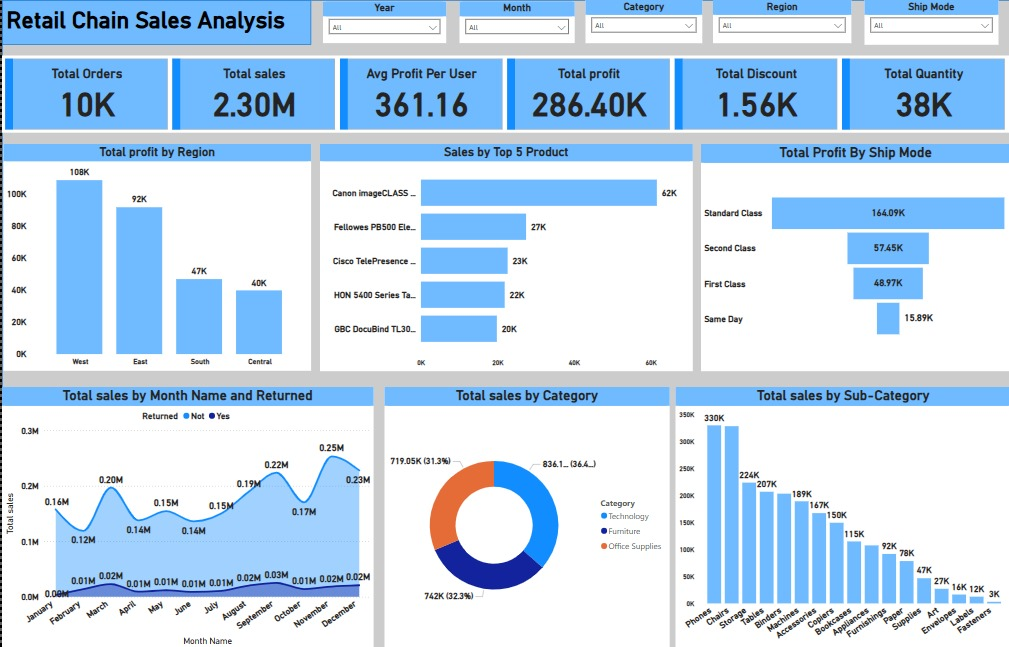

Layout of this report page (visuals, bound fields, positions):
{"tool":"powerbi","page":{"name":"Dashboard","canvas":[1680,1080],"ordinal":0},"visuals":[{"type":"shape","box":[0,0,1978.9,1600],"z":0},{"type":"shape","box":[0,0,515.4,74.4],"z":1000},{"type":"textbox","box":[2.6,5.1,512.8,61.5],"z":2000},{"type":"slicer","title":"Year","fields":{"Values":["Retails Order Full Dataset.Year"]},"box":[535.9,2.6,205.1,69.2],"z":3000},{"type":"slicer","title":"Month","fields":{"Values":["Retails Order Full Dataset.Month Name"]},"box":[761.5,2.6,192.3,69.2],"z":4000},{"type":"slicer","title":"Category","fields":{"Values":["Retails Order Full Dataset.Category"]},"box":[971.8,0,194.9,71.8],"z":5000},{"type":"slicer","title":"Ship Mode","fields":{"Values":["Retails Order Full Dataset.Ship Mode"]},"box":[1438.5,0,223.1,74.4],"z":6000},{"type":"slicer","title":"Region","fields":{"Values":["Retails Order Full Dataset.Region"]},"box":[1184.6,0,230.8,71.8],"z":7000},{"type":"cardVisual","fields":{"Data":["Retails Order Full Dataset.Total Orders","Retails Order Full Dataset.Total sales","Retails Order Full Dataset.Avg Profit Per User","Retails Order Full Dataset.Total profit","Retails Order Full Dataset.Total Discount","Retails Order Full Dataset.Total Quantity"]},"box":[0,92.9,1678.6,128.6],"z":8000},{"type":"clusteredColumnChart","fields":{"Y":["Retails Order Full Dataset.Total profit"],"Category":["Retails Order Full Dataset.Region"]},"box":[3.1,240.6,512.5,378.1],"z":9000},{"type":"donutChart","fields":{"Category":["Retails Order Full Dataset.Category"],"Y":["Retails Order Full Dataset.Total sales"]},"box":[637.5,643.8,475,434.4],"z":10000},{"type":"funnel","title":"Total Profit By Ship Mode","fields":{"Category":["Retails Order Full Dataset.Ship Mode"],"Y":["Retails Order Full Dataset.Total profit"]},"box":[1165.8,239.5,515.8,378.9],"z":11000},{"type":"areaChart","fields":{"Y":["Retails Order Full Dataset.Total sales"],"Category":["Retails Order Full Dataset.Month Name"],"Series":["Retails Order Full Dataset.Returned"]},"box":[0,645.2,619,435.7],"z":12000},{"type":"columnChart","fields":{"Category":["Retails Order Full Dataset.Sub-Category"],"Y":["Retails Order Full Dataset.Total sales"]},"box":[1121.9,643.8,559.4,437.5],"z":13000},{"type":"barChart","title":"Sales by Top 5 Product ","fields":{"Category":["Retails Order Full Dataset.Product Name"],"Y":["Retails Order Full Dataset.Total sales"]},"box":[528.9,239.5,621.1,378.9],"z":14000}]}

Visuals, with their boxes in screenshot pixels (x1, y1, x2, y2), scaled from the page's 1680x1080 canvas onto the 1009x647 screenshot:
shape: region(0, 0, 1008, 646)
shape: region(0, 0, 310, 45)
textbox: region(2, 3, 310, 40)
"Year" slicer: region(322, 2, 445, 43)
"Month" slicer: region(457, 2, 573, 43)
"Category" slicer: region(584, 0, 701, 43)
"Ship Mode" slicer: region(864, 0, 998, 45)
"Region" slicer: region(711, 0, 850, 43)
cardVisual - Retails Order Full Dataset.Total Orders x Retails Order Full Dataset.Total sales: region(0, 56, 1008, 133)
clusteredColumnChart - Retails Order Full Dataset.Total profit x Retails Order Full Dataset.Region: region(2, 144, 310, 371)
donutChart - Retails Order Full Dataset.Category x Retails Order Full Dataset.Total sales: region(383, 386, 668, 646)
"Total Profit By Ship Mode" funnel: region(700, 143, 1008, 370)
areaChart - Retails Order Full Dataset.Total sales x Retails Order Full Dataset.Month Name: region(0, 387, 372, 646)
columnChart - Retails Order Full Dataset.Sub-Category x Retails Order Full Dataset.Total sales: region(674, 386, 1008, 646)
"Sales by Top 5 Product " barChart: region(318, 143, 691, 370)
